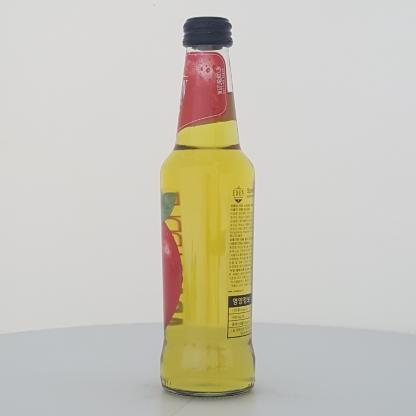----------------: (159, 32, 256, 416)
